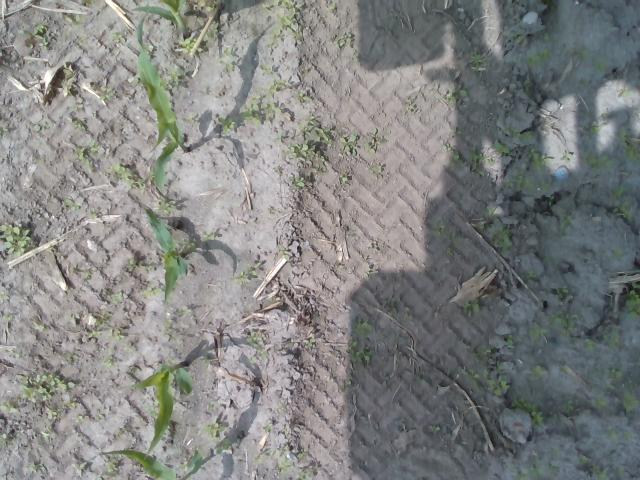Maize: (135, 14, 192, 195), (130, 360, 193, 459), (143, 206, 191, 304), (98, 450, 204, 480), (129, 0, 189, 36)
Weeds: (461, 342, 512, 396), (250, 445, 314, 480), (546, 284, 584, 340), (260, 0, 298, 49), (235, 94, 282, 131), (21, 373, 75, 404), (605, 368, 640, 415), (83, 308, 125, 344), (510, 393, 548, 428), (348, 317, 375, 366), (202, 421, 235, 456), (1, 221, 30, 259), (110, 161, 146, 190), (575, 453, 612, 480), (296, 114, 331, 142), (284, 140, 326, 163), (612, 182, 634, 224), (232, 261, 264, 289), (62, 196, 99, 220), (618, 125, 640, 164), (507, 176, 549, 194), (74, 142, 102, 169), (486, 224, 512, 253), (526, 148, 552, 176), (41, 406, 62, 439), (438, 83, 468, 106), (526, 322, 550, 348), (217, 45, 239, 73), (586, 154, 619, 172), (602, 322, 623, 350), (470, 154, 494, 178), (625, 280, 640, 318), (264, 78, 291, 97), (62, 63, 76, 99), (514, 464, 542, 480), (338, 132, 358, 154), (507, 126, 536, 141), (558, 212, 574, 237), (32, 22, 48, 46), (462, 299, 482, 318), (70, 460, 90, 479), (335, 30, 356, 48), (222, 116, 240, 136), (528, 48, 550, 64), (286, 174, 308, 190), (166, 64, 184, 83), (194, 0, 218, 14), (530, 364, 548, 382), (62, 12, 84, 26), (492, 139, 510, 156), (0, 400, 18, 417), (297, 90, 314, 107), (362, 138, 378, 156), (592, 396, 608, 412), (99, 87, 114, 104), (431, 222, 446, 238), (164, 319, 174, 343), (585, 120, 602, 134), (468, 52, 484, 66), (145, 286, 163, 298), (560, 400, 575, 414), (26, 462, 44, 473), (584, 338, 598, 352), (450, 150, 464, 164), (112, 32, 125, 47), (70, 412, 86, 424), (198, 230, 214, 242), (594, 59, 608, 72), (162, 202, 176, 215), (104, 463, 117, 476), (302, 337, 316, 349), (560, 150, 574, 162), (607, 428, 619, 441), (112, 292, 126, 303), (258, 64, 272, 75), (152, 399, 160, 418), (558, 364, 570, 376), (244, 332, 256, 344), (616, 464, 626, 478), (428, 423, 442, 433), (72, 119, 84, 130), (0, 290, 10, 303), (128, 258, 136, 274), (442, 142, 452, 154), (486, 204, 496, 216), (104, 358, 114, 370), (184, 37, 194, 49), (247, 356, 258, 366), (621, 87, 631, 98), (328, 4, 338, 14), (339, 174, 348, 185), (446, 247, 456, 256), (143, 264, 152, 274), (345, 377, 354, 386), (506, 336, 514, 346), (526, 270, 536, 278)
